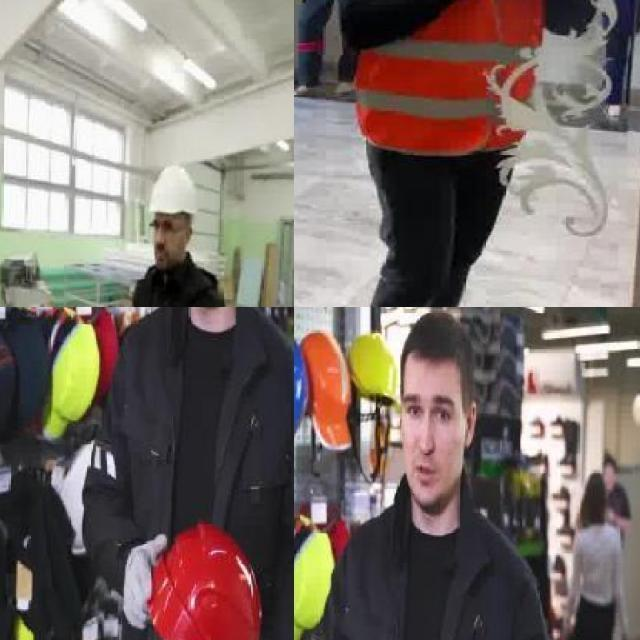apron: (122, 532, 168, 632)
